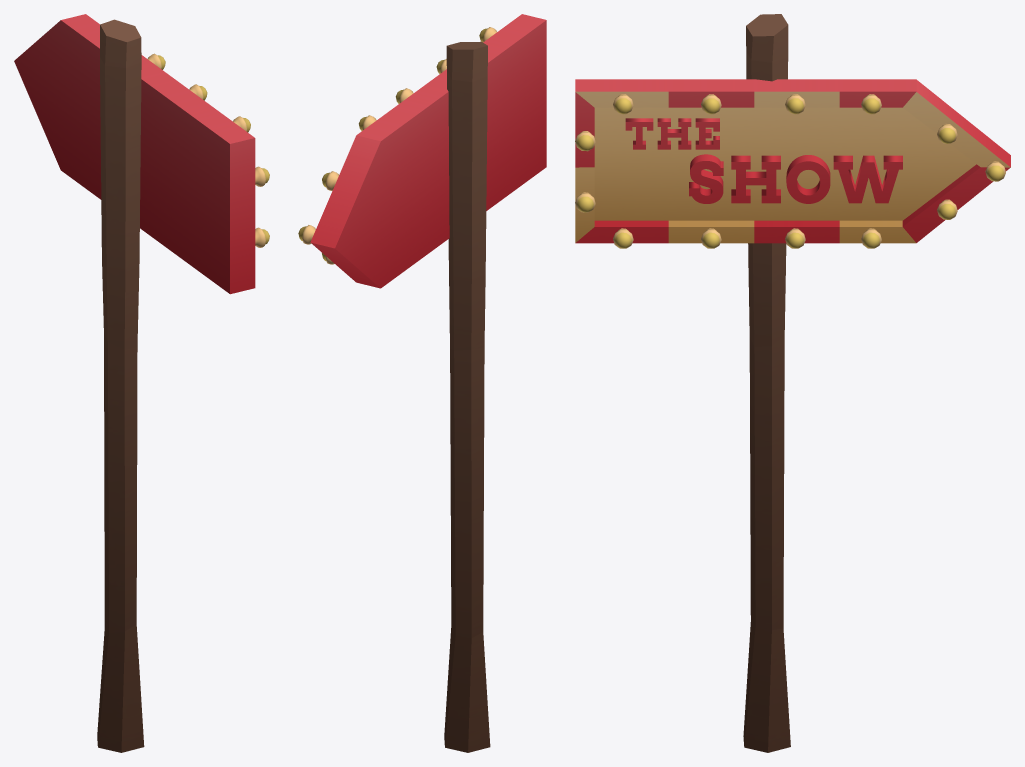
Rendered from the_show_right_stick.fbx.
3 renders of one model, left to right at view 1: azimuth 30°, elevation 25°; view 2: azimuth 150°, elevation 25°; view 3: azimuth 270°, elevation 25°, orthographic. The views are drawn at different scales.
Visible parts, largest first — view 1: the_show_right_stick; view 2: the_show_right_stick; view 3: the_show_right_stick.
Part boxes in pixels (box(x1,y1,x2,y2)): the_show_right_stick: box(14, 14, 269, 752); the_show_right_stick: box(298, 14, 546, 752); the_show_right_stick: box(575, 14, 1010, 752).
Bounding box in the file's own units: 29.63 × 249 × 137.
